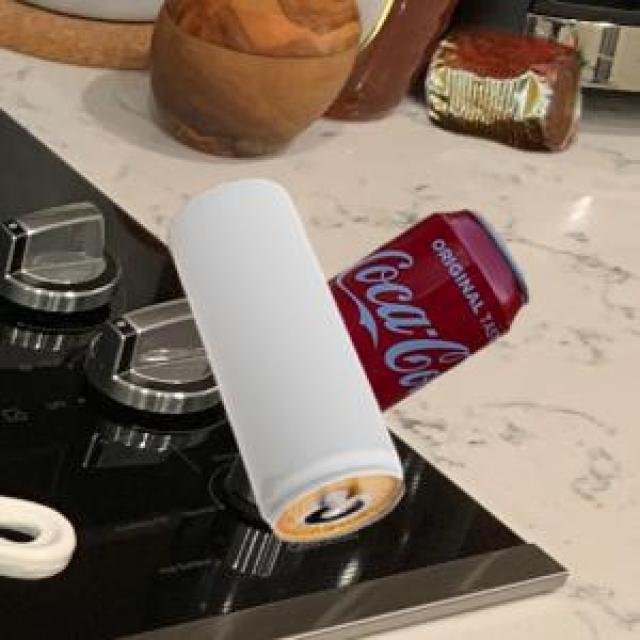Can: (165, 176, 400, 539), (323, 208, 526, 409), (423, 35, 577, 148)
